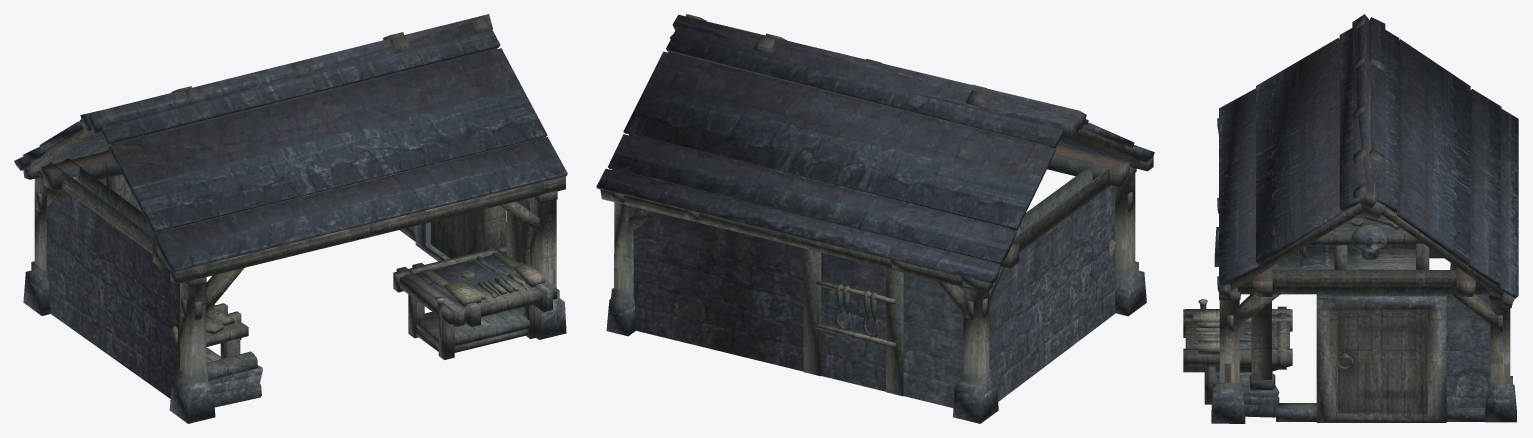
File: workshop.glb
3 views of the same model, side by side, from view 1: azimuth 30°, elevation 25°; view 2: azimuth 150°, elevation 25°; view 3: azimuth 270°, elevation 25° (orthographic). The views are drawn at different scales.
Parts seen in each view (by area): view 1: tripo_node_d21413a1-239c-4536-8b6f-6c9ae8dac040; view 2: tripo_node_d21413a1-239c-4536-8b6f-6c9ae8dac040; view 3: tripo_node_d21413a1-239c-4536-8b6f-6c9ae8dac040.
Boxes of the visible parts, x1=… form: tripo_node_d21413a1-239c-4536-8b6f-6c9ae8dac040: x1=14, y1=14, x2=567, y2=423; tripo_node_d21413a1-239c-4536-8b6f-6c9ae8dac040: x1=596, y1=14, x2=1154, y2=423; tripo_node_d21413a1-239c-4536-8b6f-6c9ae8dac040: x1=1183, y1=14, x2=1518, y2=423.
Size of the model in its own units: 8 by 4.9 by 6.34.
1 material, 1 textured.
